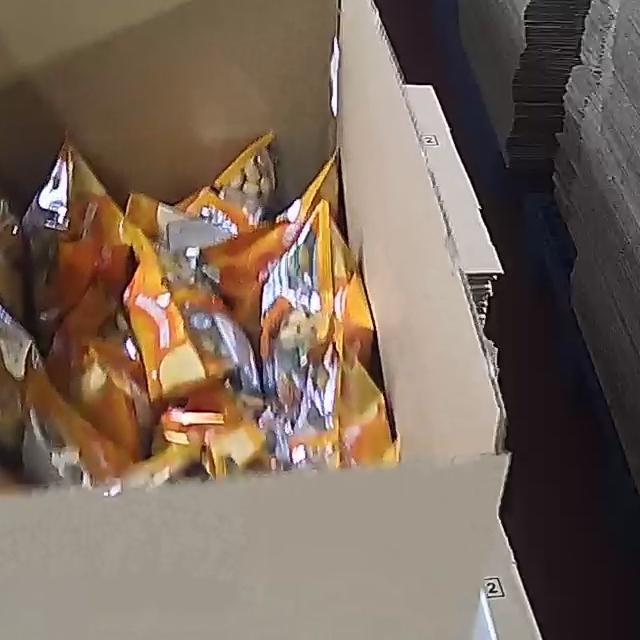cheese: (0, 126, 399, 492)
